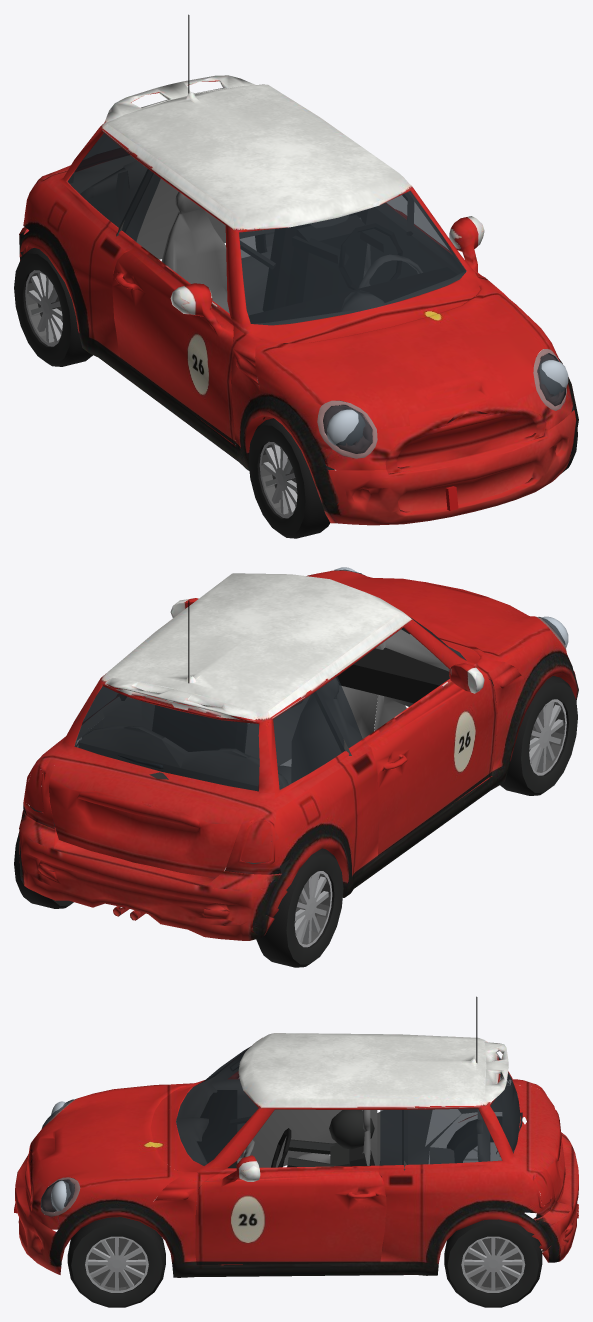
The picture shows the model from 3 angles, top to bottom: view 1: azimuth 30°, elevation 25°; view 2: azimuth 150°, elevation 25°; view 3: azimuth 270°, elevation 25°; orthographic projection. The views are drawn at different scales.
Parts seen in each view (by area): view 1: body, wheel_fr, wheel_rr; view 2: body, wheel_rr, wheel_fr, wheel_rl; view 3: body, wheel_fl, wheel_rl, wheel_rr.
Part boxes in pixels (x1=…): body: x1=19, y1=14, x2=578, y2=525; wheel_fr: x1=248, y1=418, x2=334, y2=538; wheel_rr: x1=14, y1=248, x2=92, y2=366; body: x1=19, y1=567, x2=578, y2=940; wheel_rr: x1=256, y1=848, x2=343, y2=967; wheel_fr: x1=500, y1=676, x2=577, y2=795; wheel_rl: x1=14, y1=806, x2=73, y2=908; body: x1=14, y1=996, x2=578, y2=1277; wheel_fl: x1=67, y1=1217, x2=165, y2=1307; wheel_rl: x1=444, y1=1219, x2=542, y2=1307; wheel_rr: x1=447, y1=1116, x2=517, y2=1162.
Size of the model in its own units: 1.87 by 1.87 by 3.7.
Materials: 3 (2 with a texture image).
